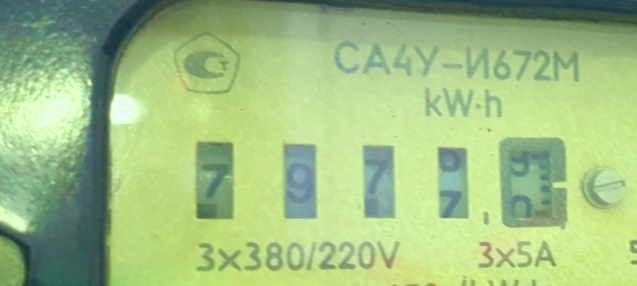0: (509, 191, 533, 221)
7: (197, 158, 232, 204), (436, 181, 467, 224), (362, 155, 393, 197)
9: (283, 159, 316, 207), (506, 147, 537, 180)
screen: (180, 113, 586, 257)
